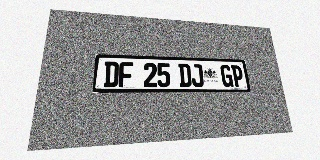2: (144, 62, 157, 87)
5: (157, 63, 170, 87)
D: (103, 61, 119, 87), (178, 63, 192, 87)
F: (119, 62, 133, 87)
G: (220, 65, 234, 87)
J: (190, 64, 204, 87)
P: (231, 65, 244, 87)
